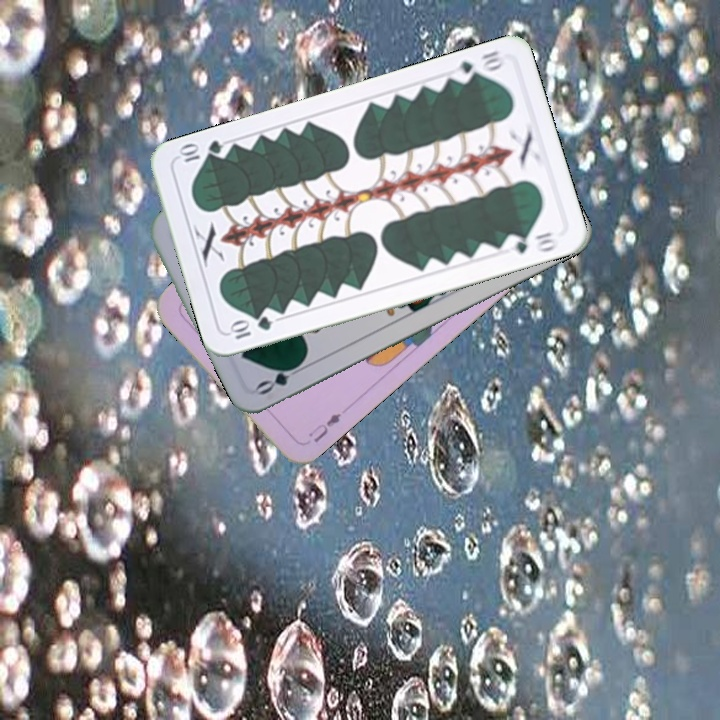EU: (304, 409, 344, 446)
G10: (448, 46, 508, 86), (226, 312, 275, 342)
GO: (252, 357, 309, 398)
